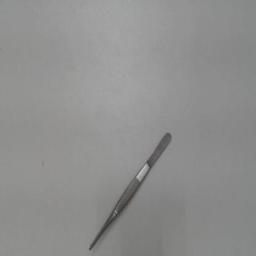Gillies Toothed Dissector: (86, 126, 178, 252)
